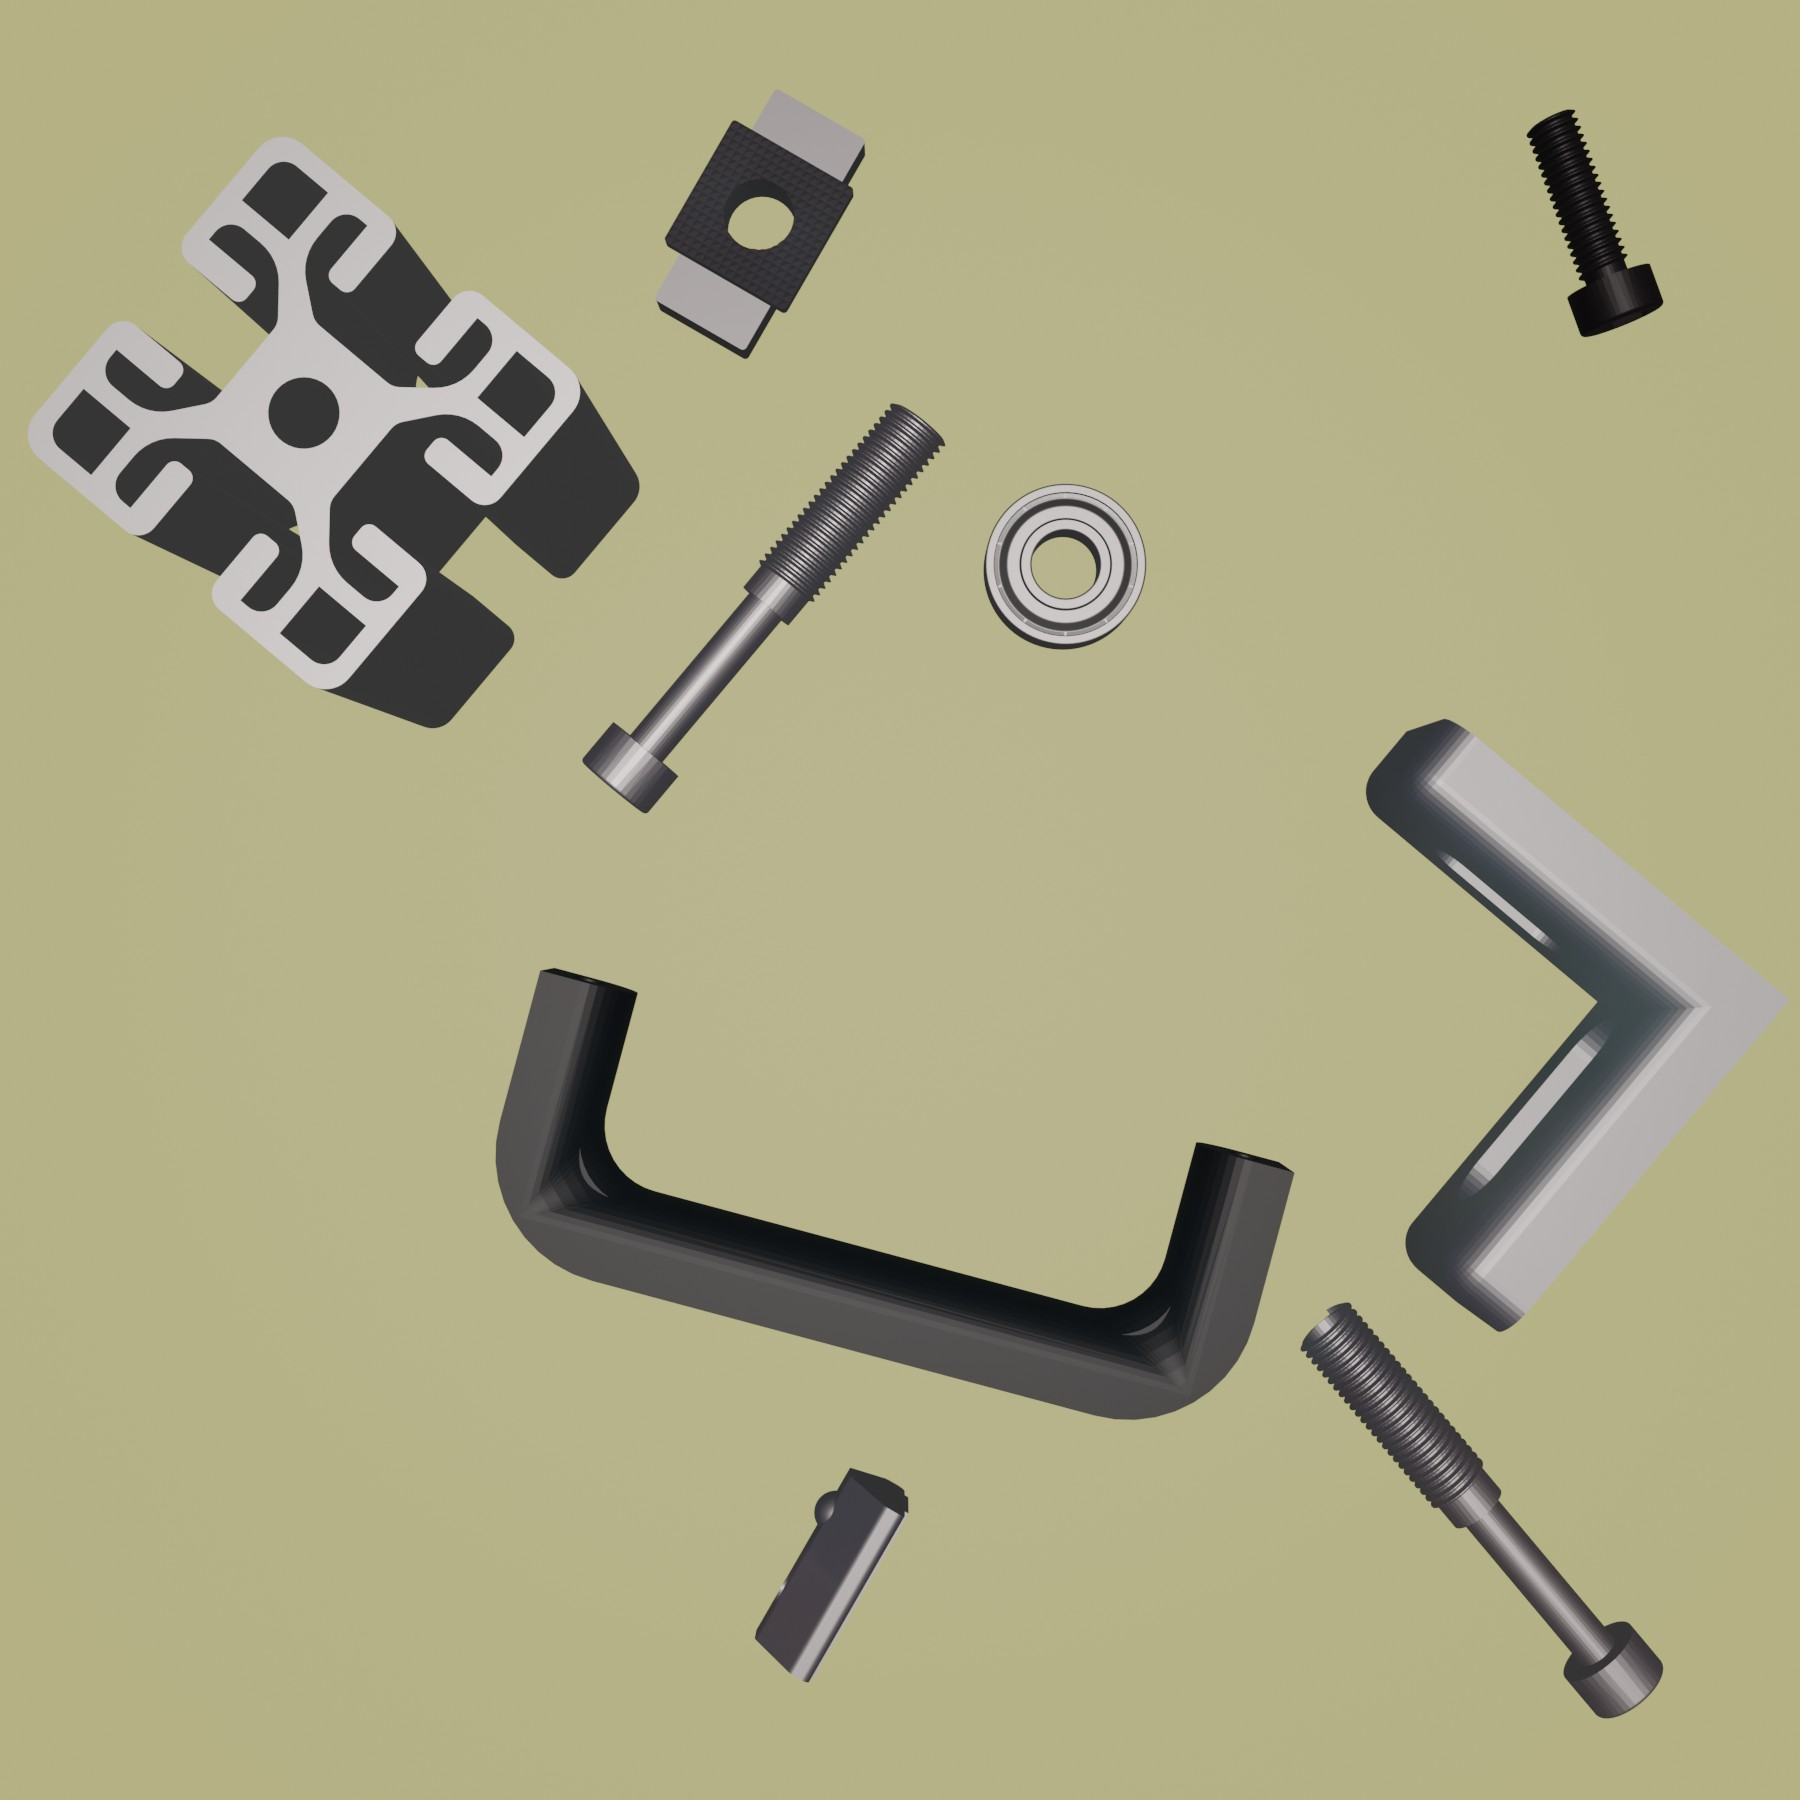Aluminium Extension: (26, 130, 641, 730)
Ball Bearing: (982, 480, 1147, 653)
Multiwinkel: (1363, 719, 1785, 1335)
Pull Handle: (491, 961, 1297, 1423)
Shoulder Socket Head Cap Screw: (1296, 1299, 1666, 1723), (580, 399, 948, 814)
Socket Head Cap Screw: (1525, 101, 1666, 341)
T Nut Square: (654, 86, 870, 361)
T Spring Nut: (752, 1464, 912, 1688)
